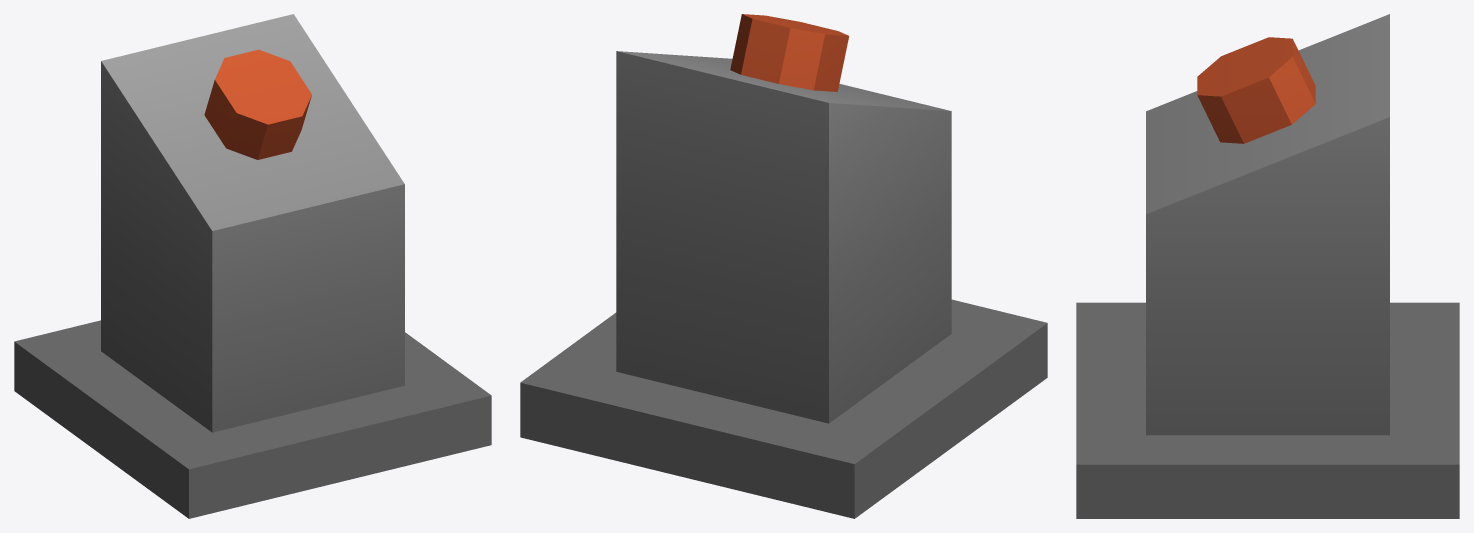
File: factory start trigger.fbx
The picture shows the model from 3 angles, left to right: view 1: azimuth 30°, elevation 25°; view 2: azimuth 150°, elevation 25°; view 3: azimuth 270°, elevation 25°; orthographic projection. The views are drawn at different scales.
Visible parts, largest first — view 1: factory_start_trigger_; view 2: factory_start_trigger_; view 3: factory_start_trigger_.
Boxes of the visible parts, bbox=[...] form: factory_start_trigger_: bbox=[14, 14, 491, 518]; factory_start_trigger_: bbox=[520, 14, 1047, 518]; factory_start_trigger_: bbox=[1076, 14, 1459, 518].
Size of the model in its own units: 113 by 127 by 113.
1 material, 1 textured.
